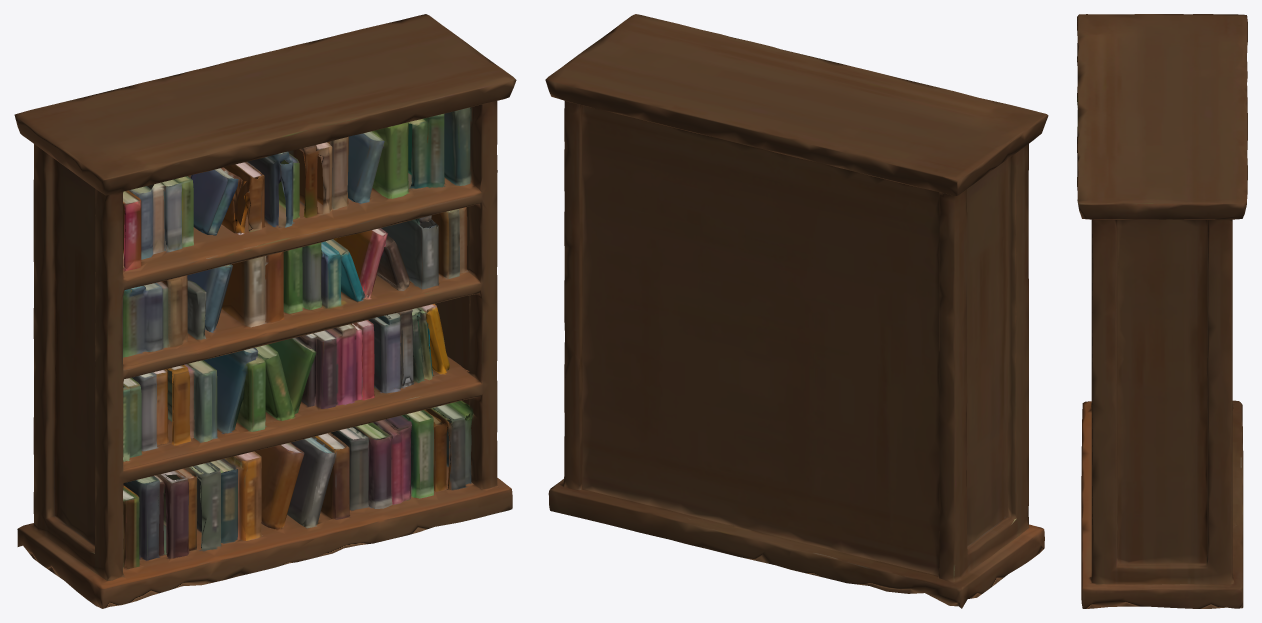
File: library_LibraryBookShelf2.glb
The picture shows the model from 3 angles, left to right: view 1: azimuth 30°, elevation 25°; view 2: azimuth 150°, elevation 25°; view 3: azimuth 270°, elevation 25°; orthographic projection. The views are drawn at different scales.
Visible parts, largest first — view 1: world; view 2: world; view 3: world.
Boxes of the visible parts, <box> form: world: <box>14,14,516,608</box>; world: <box>545,14,1048,608</box>; world: <box>1077,14,1247,608</box>.
Size of the model in its own units: 1 by 1 by 0.3803.
Materials: 1 (1 with a texture image).
